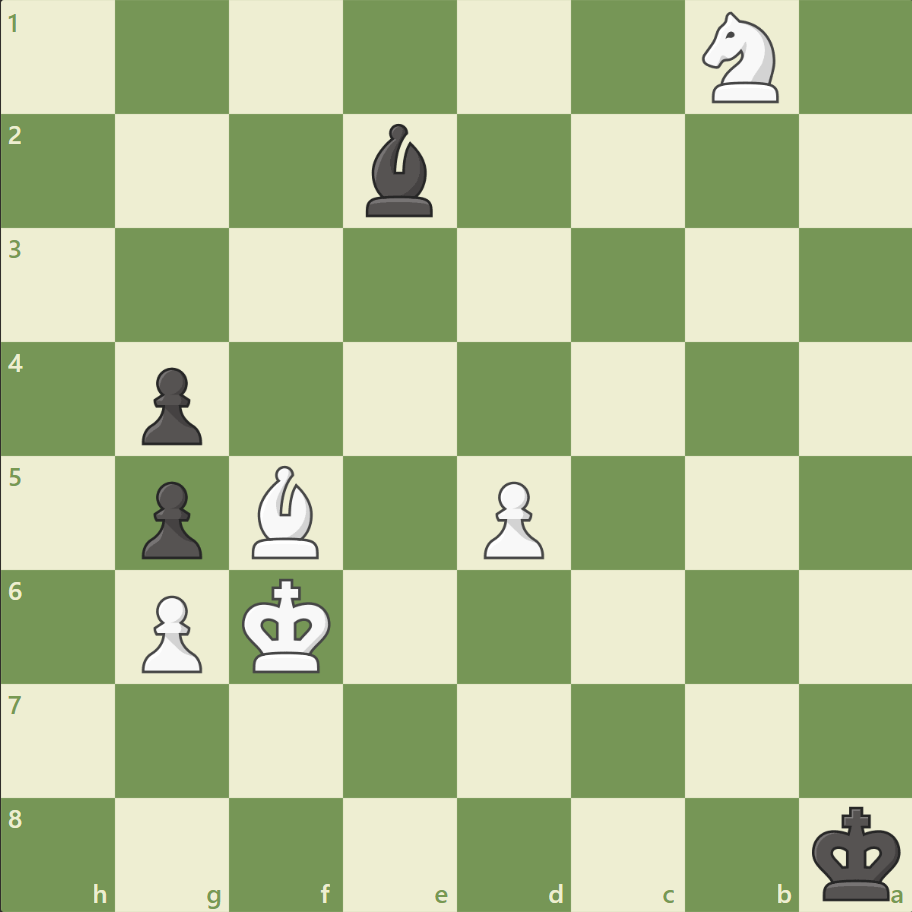B: (244, 460, 328, 563)
K: (238, 571, 338, 679)
N: (692, 7, 789, 110)
P: (133, 586, 208, 677), (474, 473, 549, 564)
b: (358, 120, 442, 222)
k: (806, 798, 906, 906)
p: (133, 473, 208, 564), (133, 359, 208, 450)
